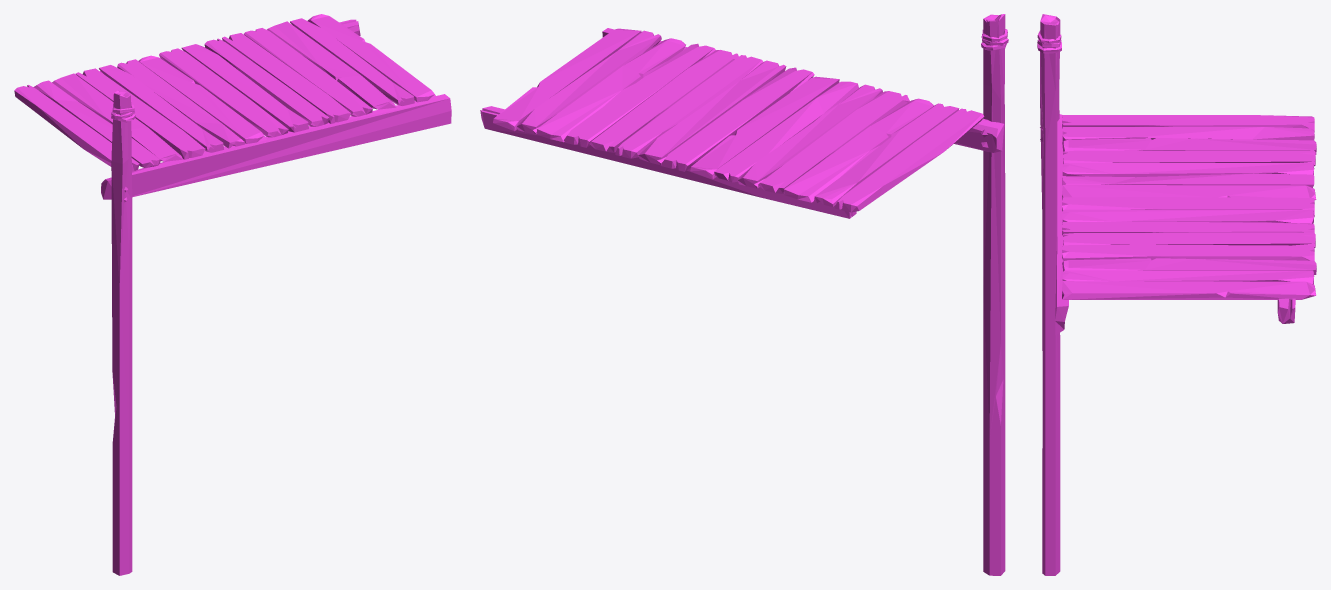
The model's file is SM_Pier_Platform_Rope_Long_B_Fantasy.fbx.
The picture shows the model from 3 angles, left to right: view 1: azimuth 30°, elevation 25°; view 2: azimuth 150°, elevation 25°; view 3: azimuth 270°, elevation 25°; orthographic projection. The views are drawn at different scales.
Parts seen in each view (by area): view 1: SM_Pier_Platform_Rope_Long_B_Fantasy; view 2: SM_Pier_Platform_Rope_Long_B_Fantasy; view 3: SM_Pier_Platform_Rope_Long_B_Fantasy.
Boxes of the visible parts, box(x1,y1,x2,y2) form: SM_Pier_Platform_Rope_Long_B_Fantasy: box(14, 14, 451, 575); SM_Pier_Platform_Rope_Long_B_Fantasy: box(480, 14, 1008, 575); SM_Pier_Platform_Rope_Long_B_Fantasy: box(1037, 14, 1316, 575).
Bounding box in the file's own units: 5.55 × 7.25 × 3.31.
